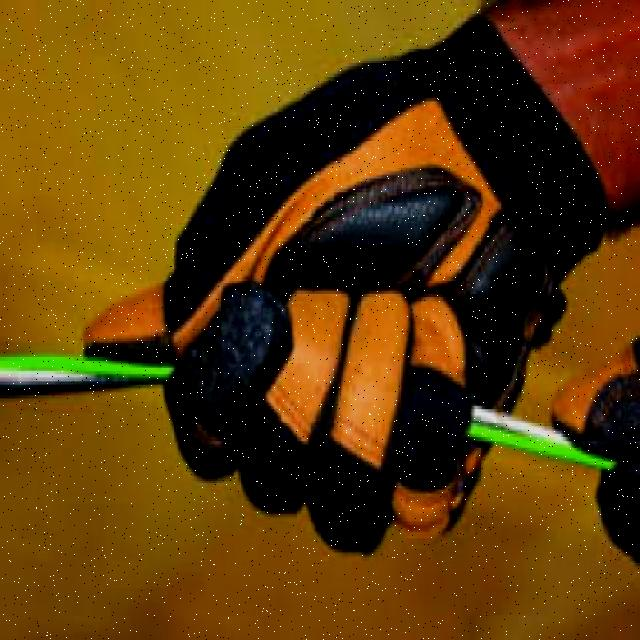Gloves: (80, 9, 568, 556)
